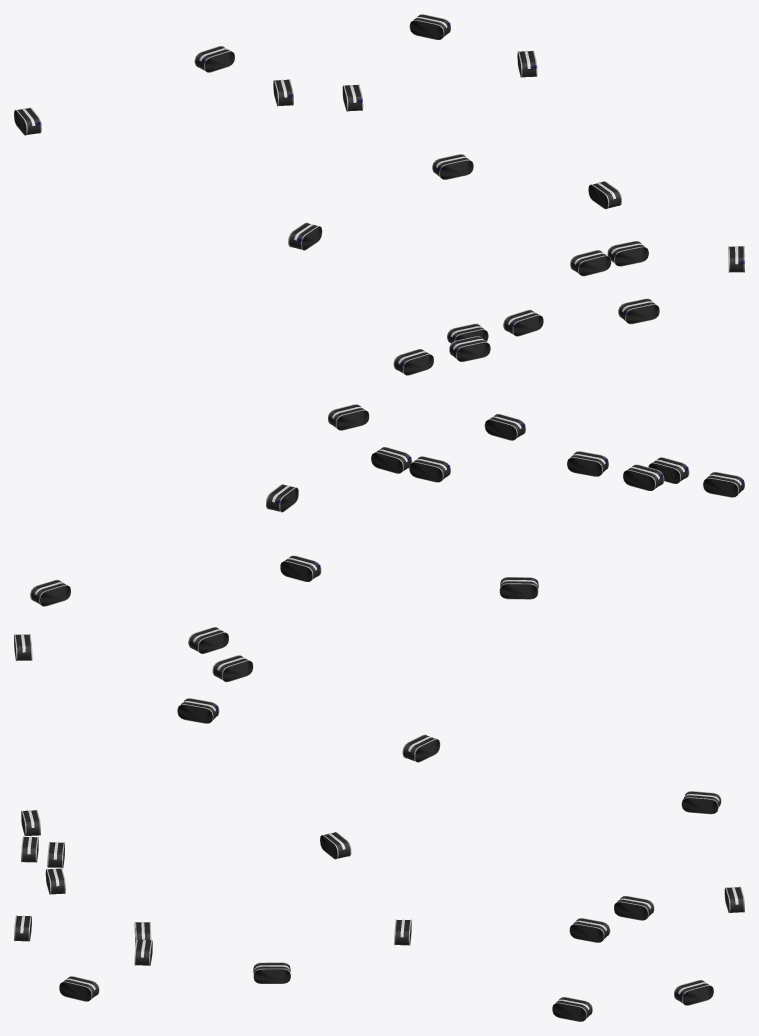
File: orange tempat pensil.fbx
3 renders of one model, top to bottom at view 1: azimuth 30°, elevation 25°; view 2: azimuth 150°, elevation 25°; view 3: azimuth 270°, elevation 25°, orthographic. The views are drawn at different scales.
Parts seen in each view (by area): view 1: tempat pensil_main.003; view 2: tempat pensil_main.003; view 3: tempat pensil_main.003.
Boxes of the visible parts, bbox=[...] form: tempat pensil_main.003: bbox=[14, 14, 744, 375]; tempat pensil_main.003: bbox=[14, 404, 744, 762]; tempat pensil_main.003: bbox=[14, 791, 744, 1021].
Size of the model in its own units: 278 by 8.89 by 394.
